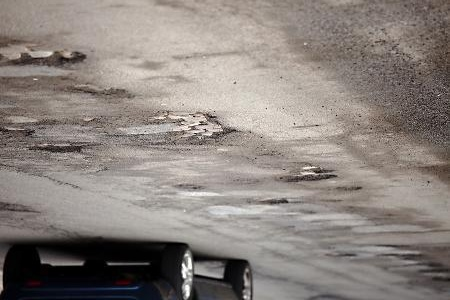pothole: (148, 107, 237, 143), (0, 42, 90, 73), (274, 160, 337, 183), (0, 113, 42, 137), (31, 140, 87, 155), (0, 198, 38, 215), (255, 196, 290, 205)
